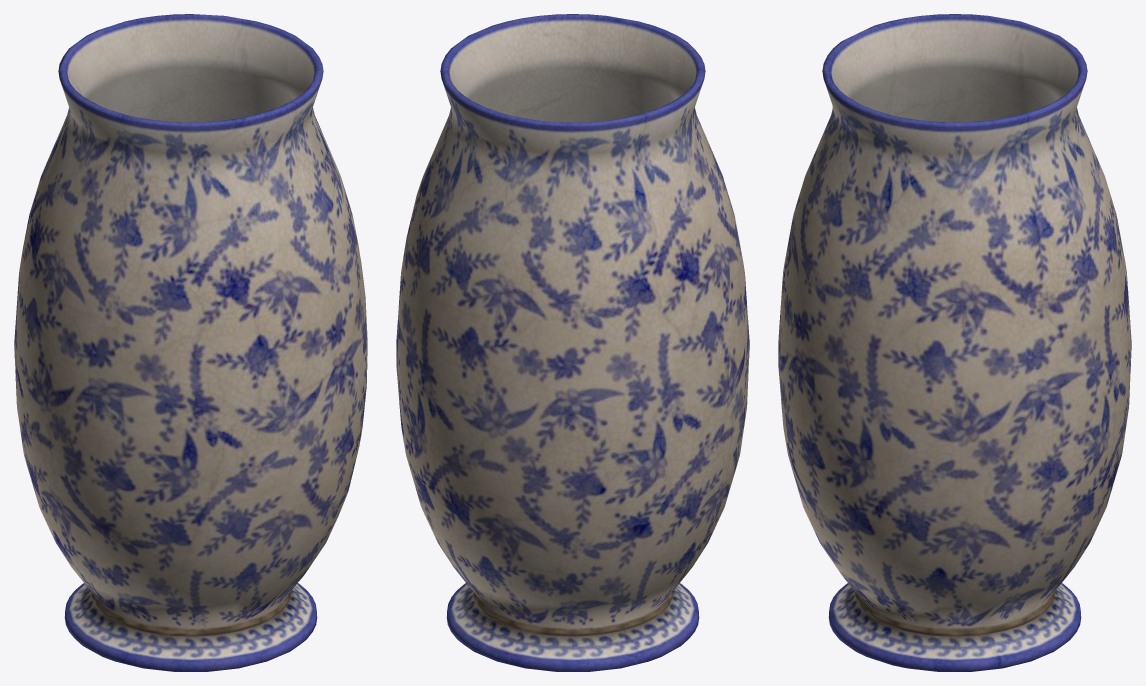
The model's file is antique_ceramic_vase_01.glb.
The picture shows the model from 3 angles, left to right: view 1: azimuth 30°, elevation 25°; view 2: azimuth 150°, elevation 25°; view 3: azimuth 270°, elevation 25°; orthographic projection.
Parts seen in each view (by area): view 1: antique_ceramic_vase_01; view 2: antique_ceramic_vase_01; view 3: antique_ceramic_vase_01.
Boxes of the visible parts, x1,y1,x2,y2 form: antique_ceramic_vase_01: (14, 14, 367, 671); antique_ceramic_vase_01: (396, 14, 749, 671); antique_ceramic_vase_01: (778, 14, 1131, 671).
Bounding box in the file's own units: 0.255 × 0.4396 × 0.255.
Materials: 1 (1 with a texture image).
